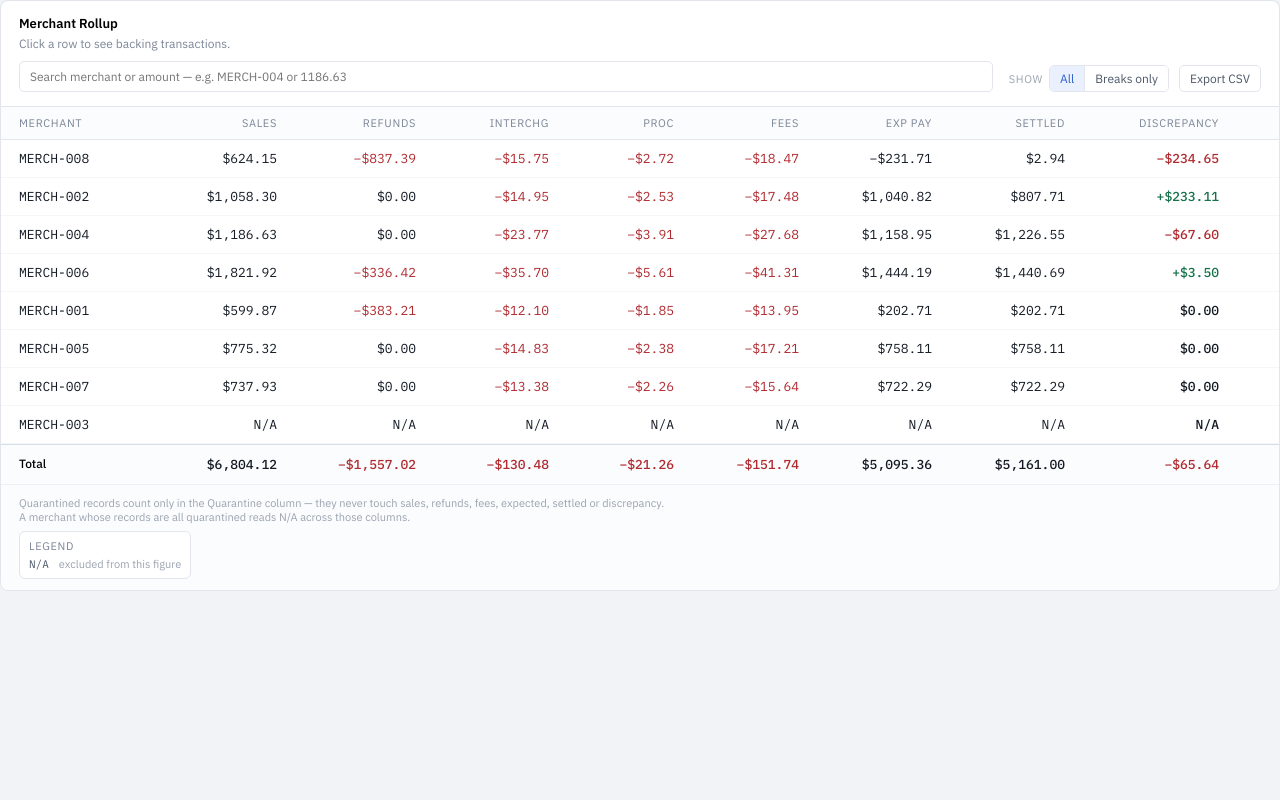
Test: MerchantTable › search › narrows to a merchant id
Step 1. Type "MERCH-004" into the search field with placeholder "Search merchant or amount — e.g. MERCH-004 or 1186.63" → (506, 76), box [19,61,993,92]
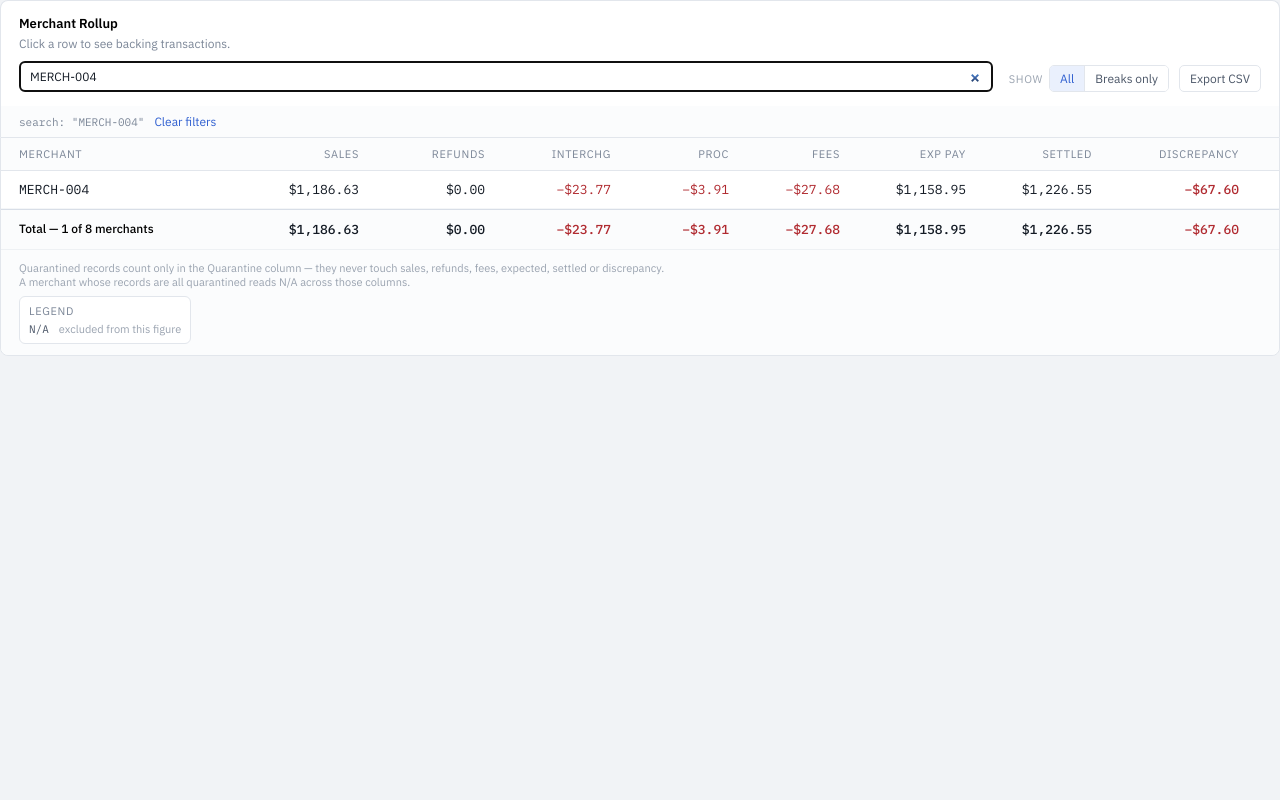
Expected: the text "search: \"MERCH-004\"" is shown, [19,114,144,128]
